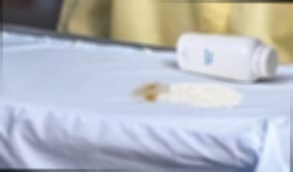oil: (131, 81, 161, 107)
